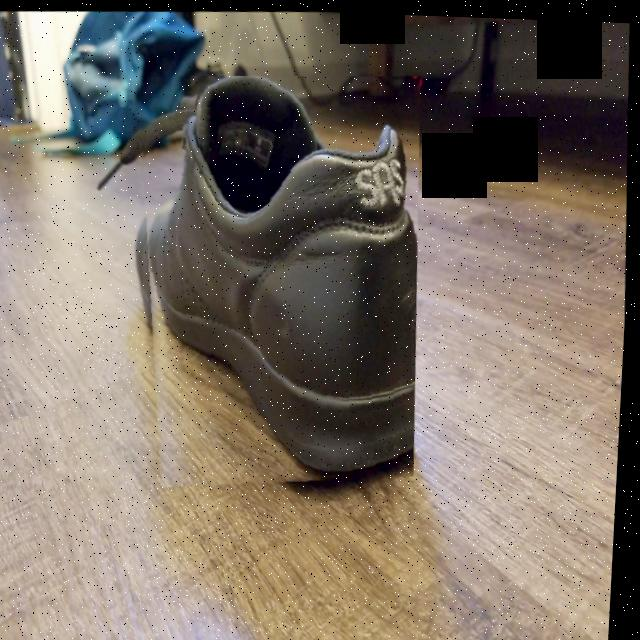shoe: (122, 64, 435, 494)
